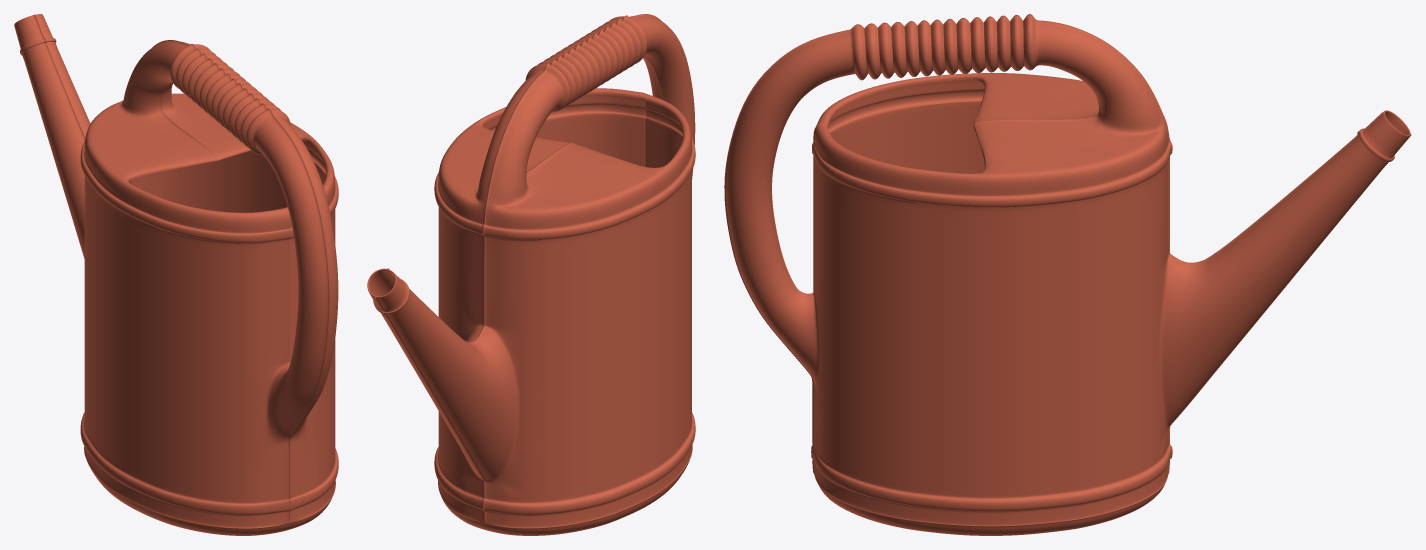
File: wateringPot.glb
3 views of the same model, side by side, from view 1: azimuth 30°, elevation 25°; view 2: azimuth 150°, elevation 25°; view 3: azimuth 270°, elevation 25° (orthographic). The views are drawn at different scales.
Visible parts, largest first — view 1: WateringPot; view 2: WateringPot; view 3: WateringPot.
Boxes of the visible parts, x1=… form: WateringPot: x1=14, y1=14, x2=338, y2=535; WateringPot: x1=367, y1=14, x2=695, y2=535; WateringPot: x1=724, y1=14, x2=1411, y2=535.
Bounding box in the file's own units: 3.9 × 7.84 × 10.29.
